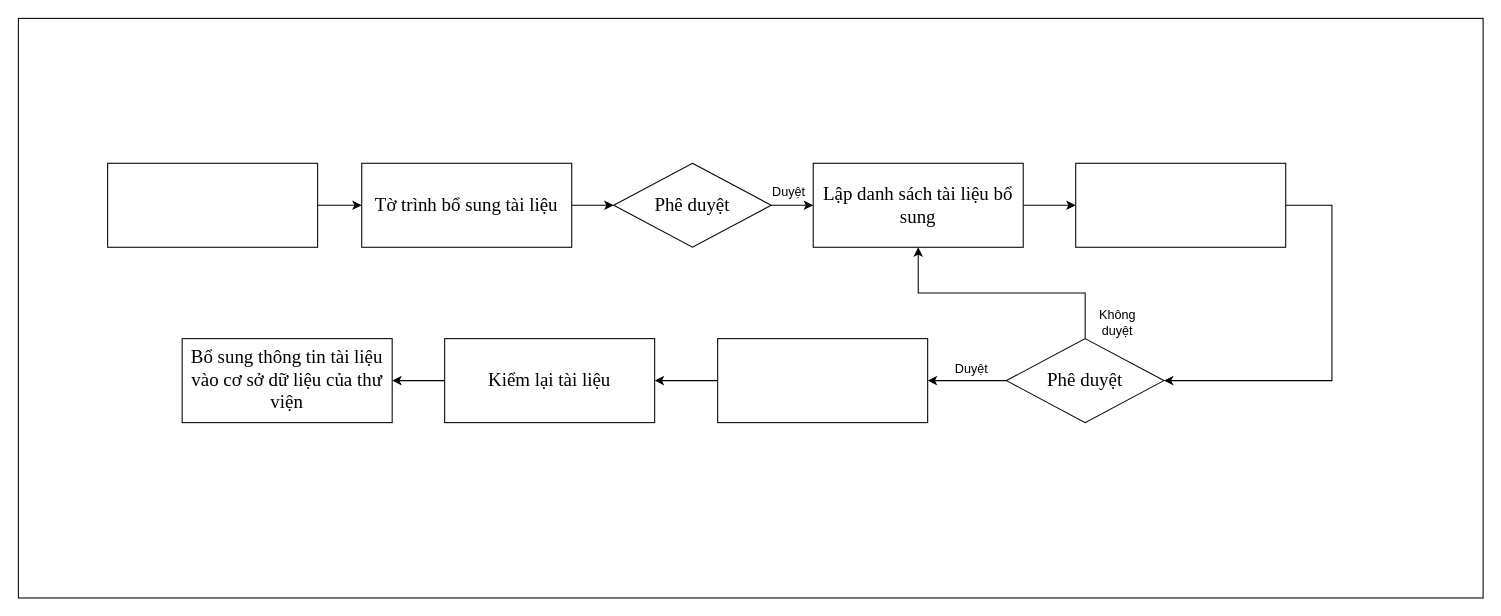
Some shapes in this 1501 by 616 pixel diagram are drawn without their labels. The shapes that lost their labels are listed below. From the top down, each one's centre as x and y in pixels, then its label:
(x=212, y=204): Nhận nguồn kinh phí từ phòng KHTC
(x=1180, y=204): Rà soát đối chiếu với tài liệu trong thư viện
(x=822, y=380): Tiến hành bổ sung tài liệu
